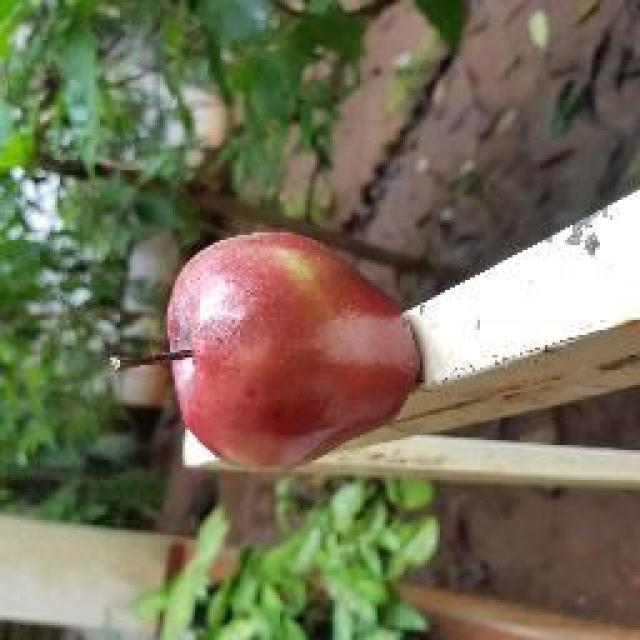Good_Apple: (165, 230, 422, 475)
